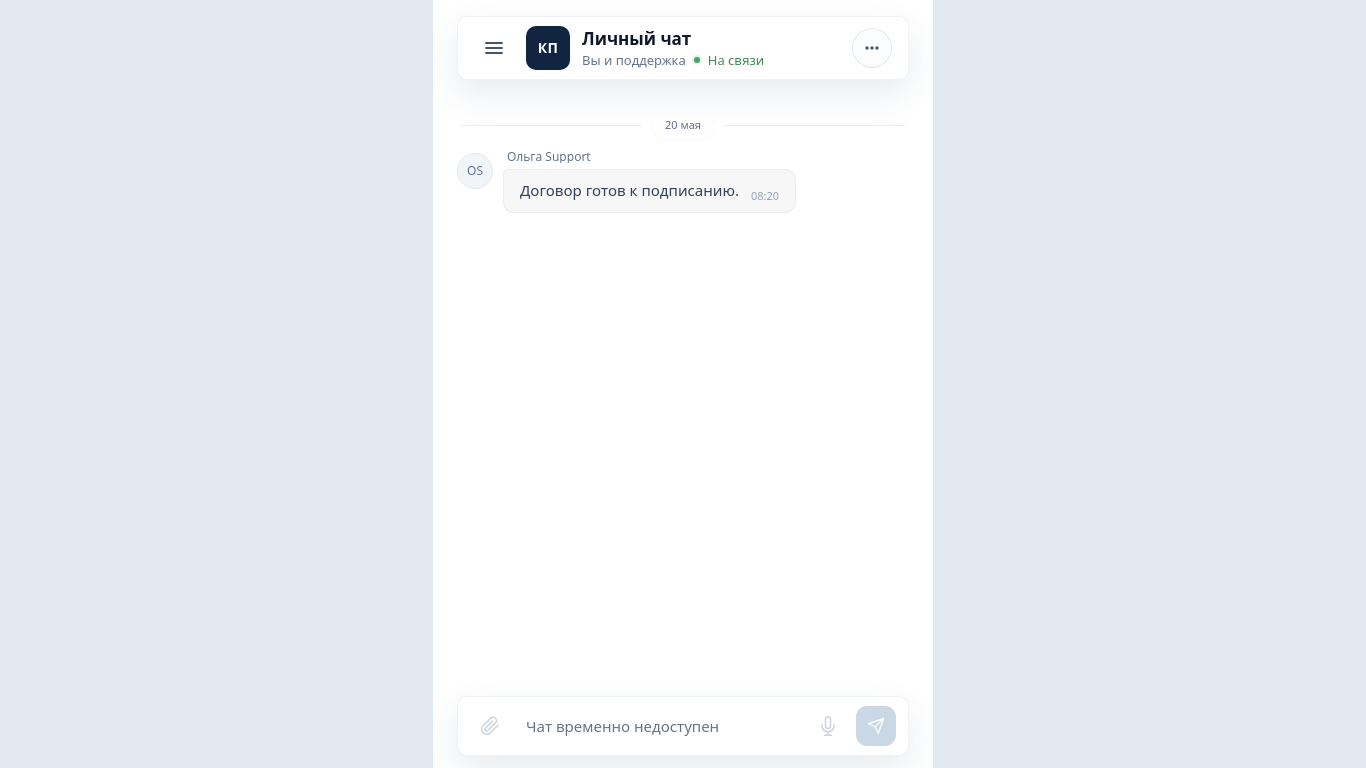
ChatPage search panel › keeps current search results visible and reports older-page unavailable responses
Expected: the text "Договор готов к подписанию." is shown, [520,180,739,200]
Click the button named "Открыть меню чата" at (872, 48), box [852,28,892,68]
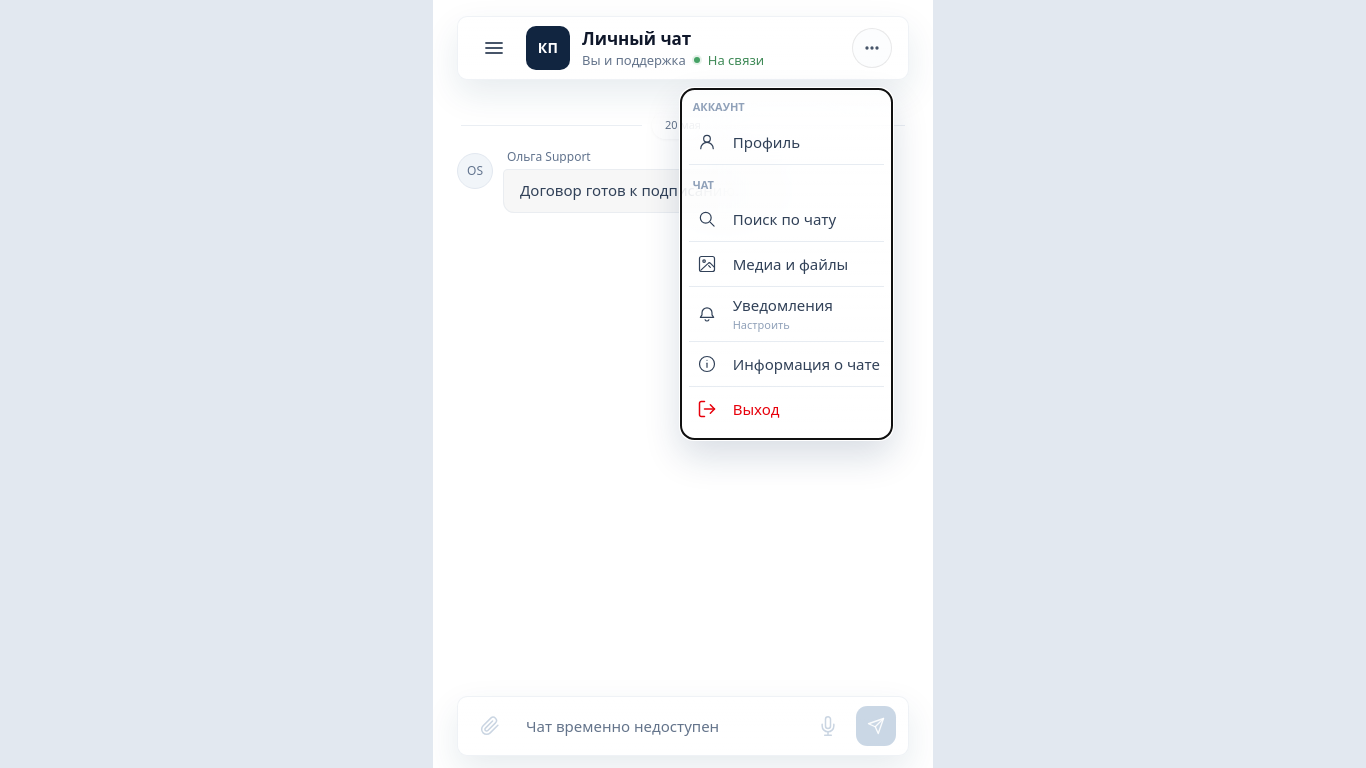
Click the menu item "Поиск по чату" at (786, 220), box [689,197,884,242]
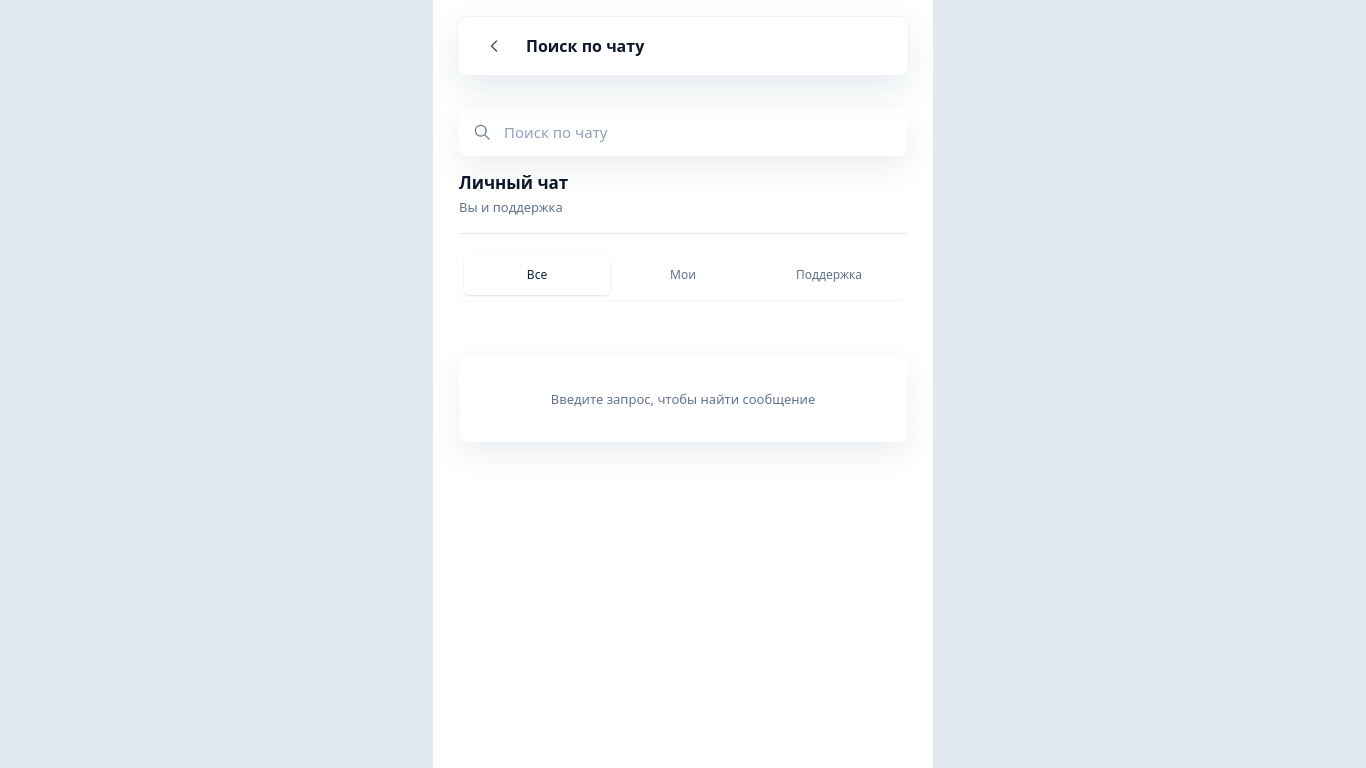
Type "договор" into the search field labelled "Поиск по чату" at (699, 132), box [504,110,894,154]
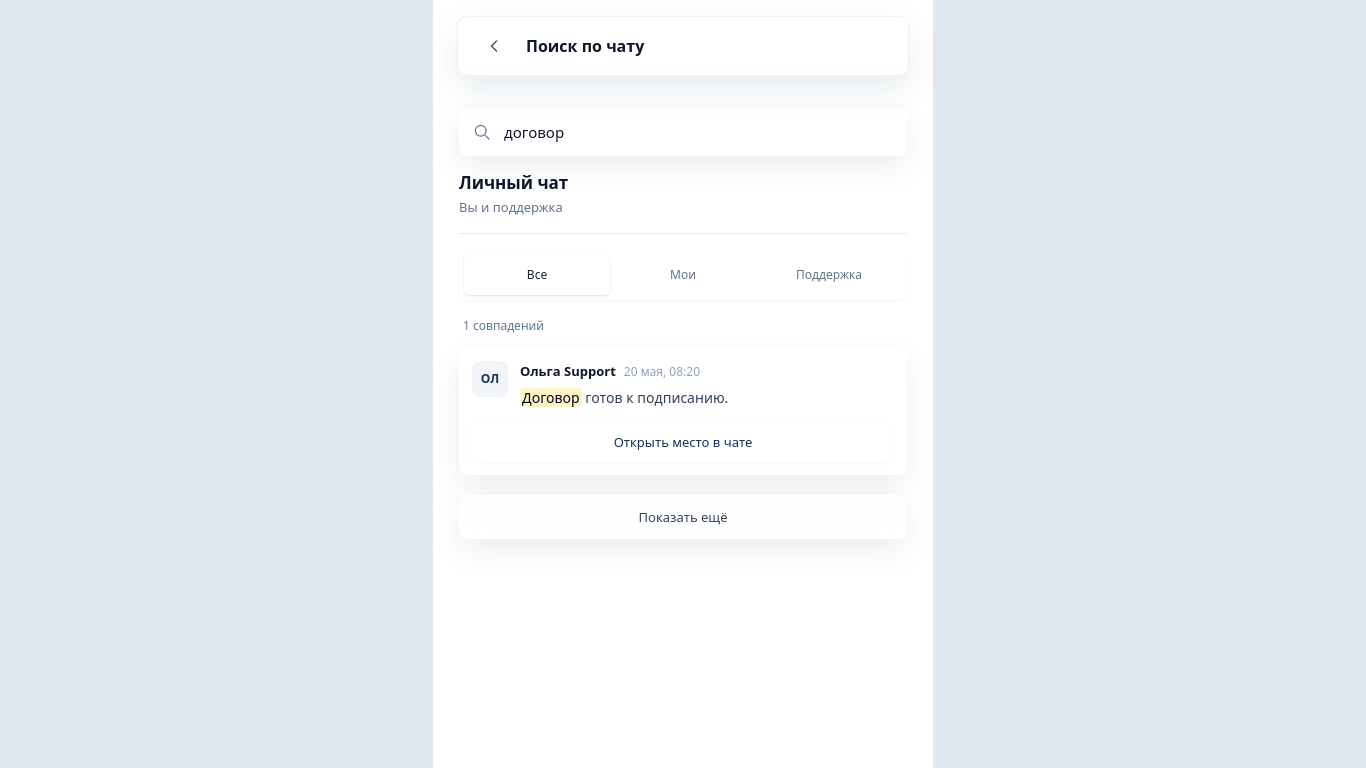
Expected: the text "Договор готов к подписанию." is shown, [520,180,739,200]
Click the button "Показать ещё" at (683, 517), box [459,495,907,539]
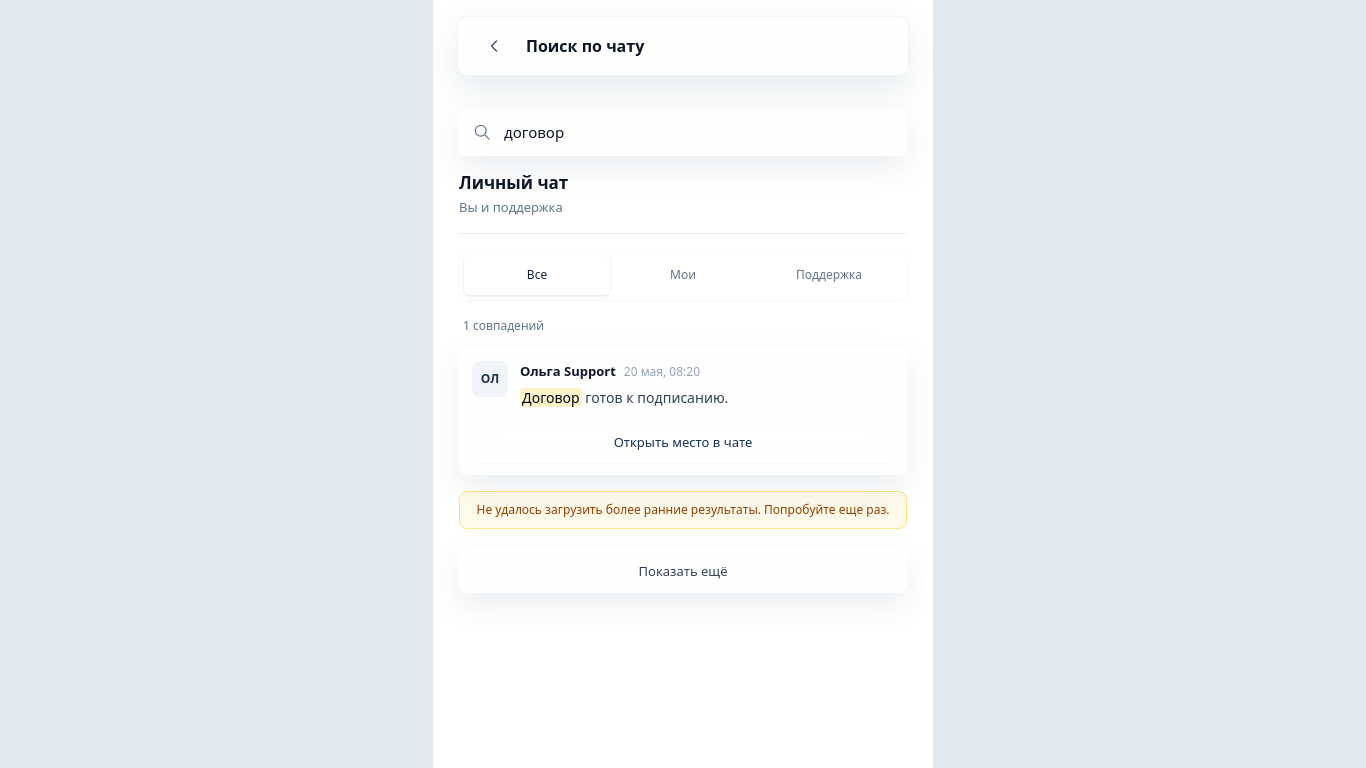
Expected: the text "Договор готов к подписанию." is shown, [520,180,739,200]
Expected: the button "Показать ещё" is enabled, [459,549,907,593]
Expected: the text "Не удалось загрузить более ранние результаты. Попробуйте еще раз." is shown, [459,491,907,529]
